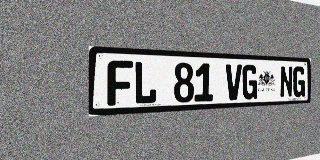1: (194, 63, 213, 102)
8: (174, 62, 194, 103)
F: (107, 60, 133, 106)
G: (242, 65, 258, 100), (293, 66, 305, 97)
L: (134, 61, 157, 105)
N: (280, 66, 293, 98)
V: (225, 64, 242, 100)
